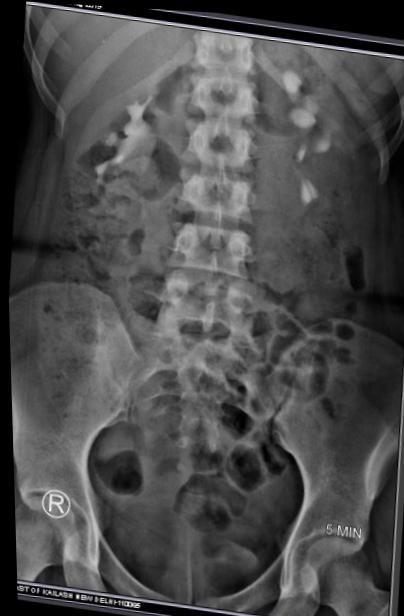bladder: (91, 494, 279, 613)
vertebrae: (185, 68, 265, 121)
